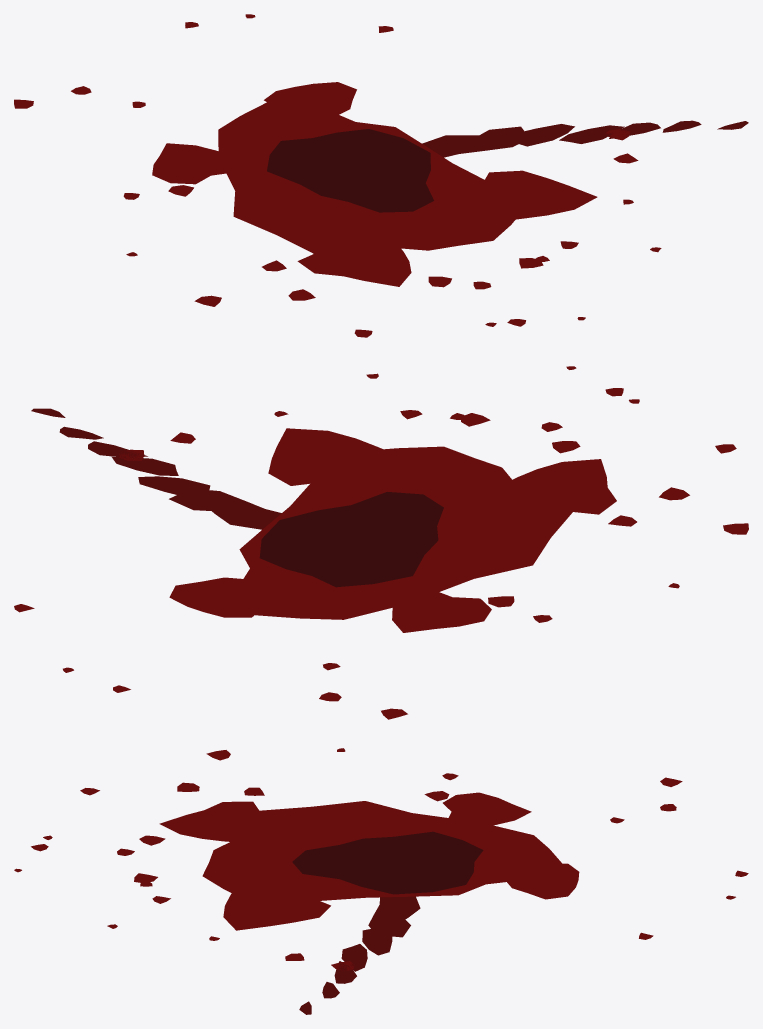
File: blood_pool.glb
3 renders of one model, top to bottom at view 1: azimuth 30°, elevation 25°; view 2: azimuth 150°, elevation 25°; view 3: azimuth 270°, elevation 25°, orthographic. The views are drawn at different scales.
Parts seen in each view (by area): view 1: blood_pool; view 2: blood_pool; view 3: blood_pool.
Part boxes in pixels (box(x1,y1,x2,y2)): blood_pool: box(14, 14, 748, 337); blood_pool: box(14, 366, 748, 719); blood_pool: box(14, 748, 748, 1014).
Size of the model in its own units: 3.33 by 0.004 by 3.87.
